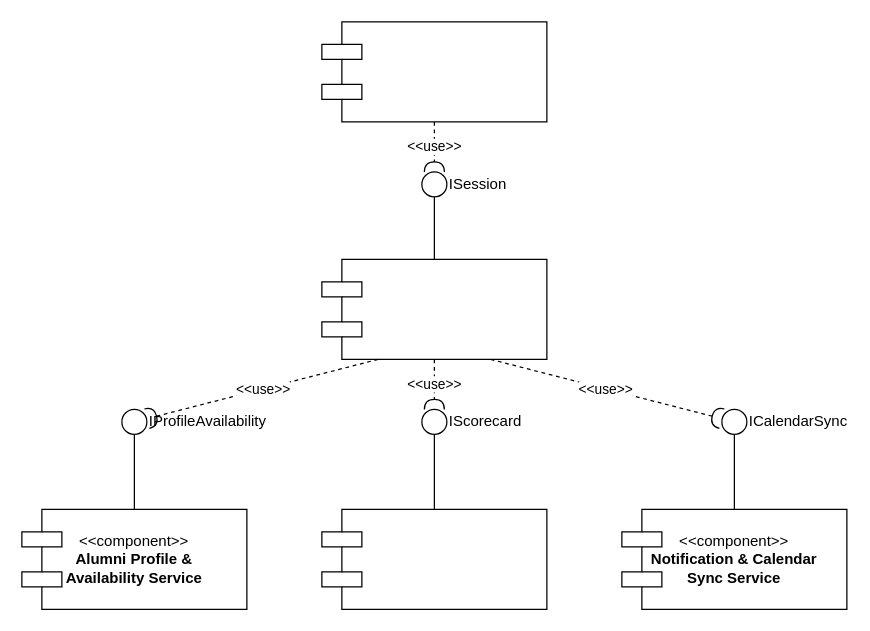
Some shapes in this 870 by 631 pixel diagram are drawn without their labels. The shapes that lost their labels are listed below. From the top down, each one's centre as x and y in pixels, then its label:
the point at 434,71: <<component>> Web UI Client
the point at 434,308: <<component>> Order/Session Manager
the point at 434,558: <<component>> Rating & Scorecard Service
